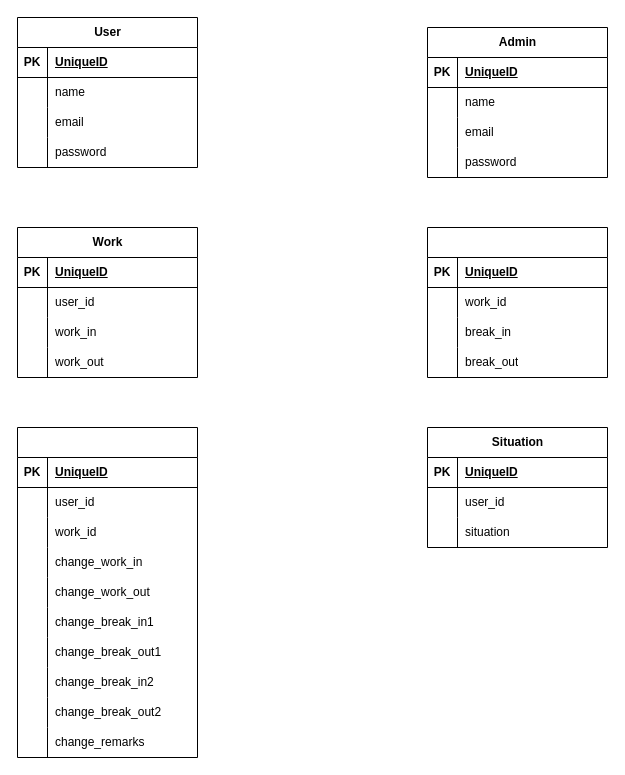
The diagram is 625 pixels wide and 775 high, and some of its shapes have lost their labels. Each missing label, with the box of its shape:
Break_time: (426, 226, 608, 378)
Change_request: (16, 426, 198, 758)
